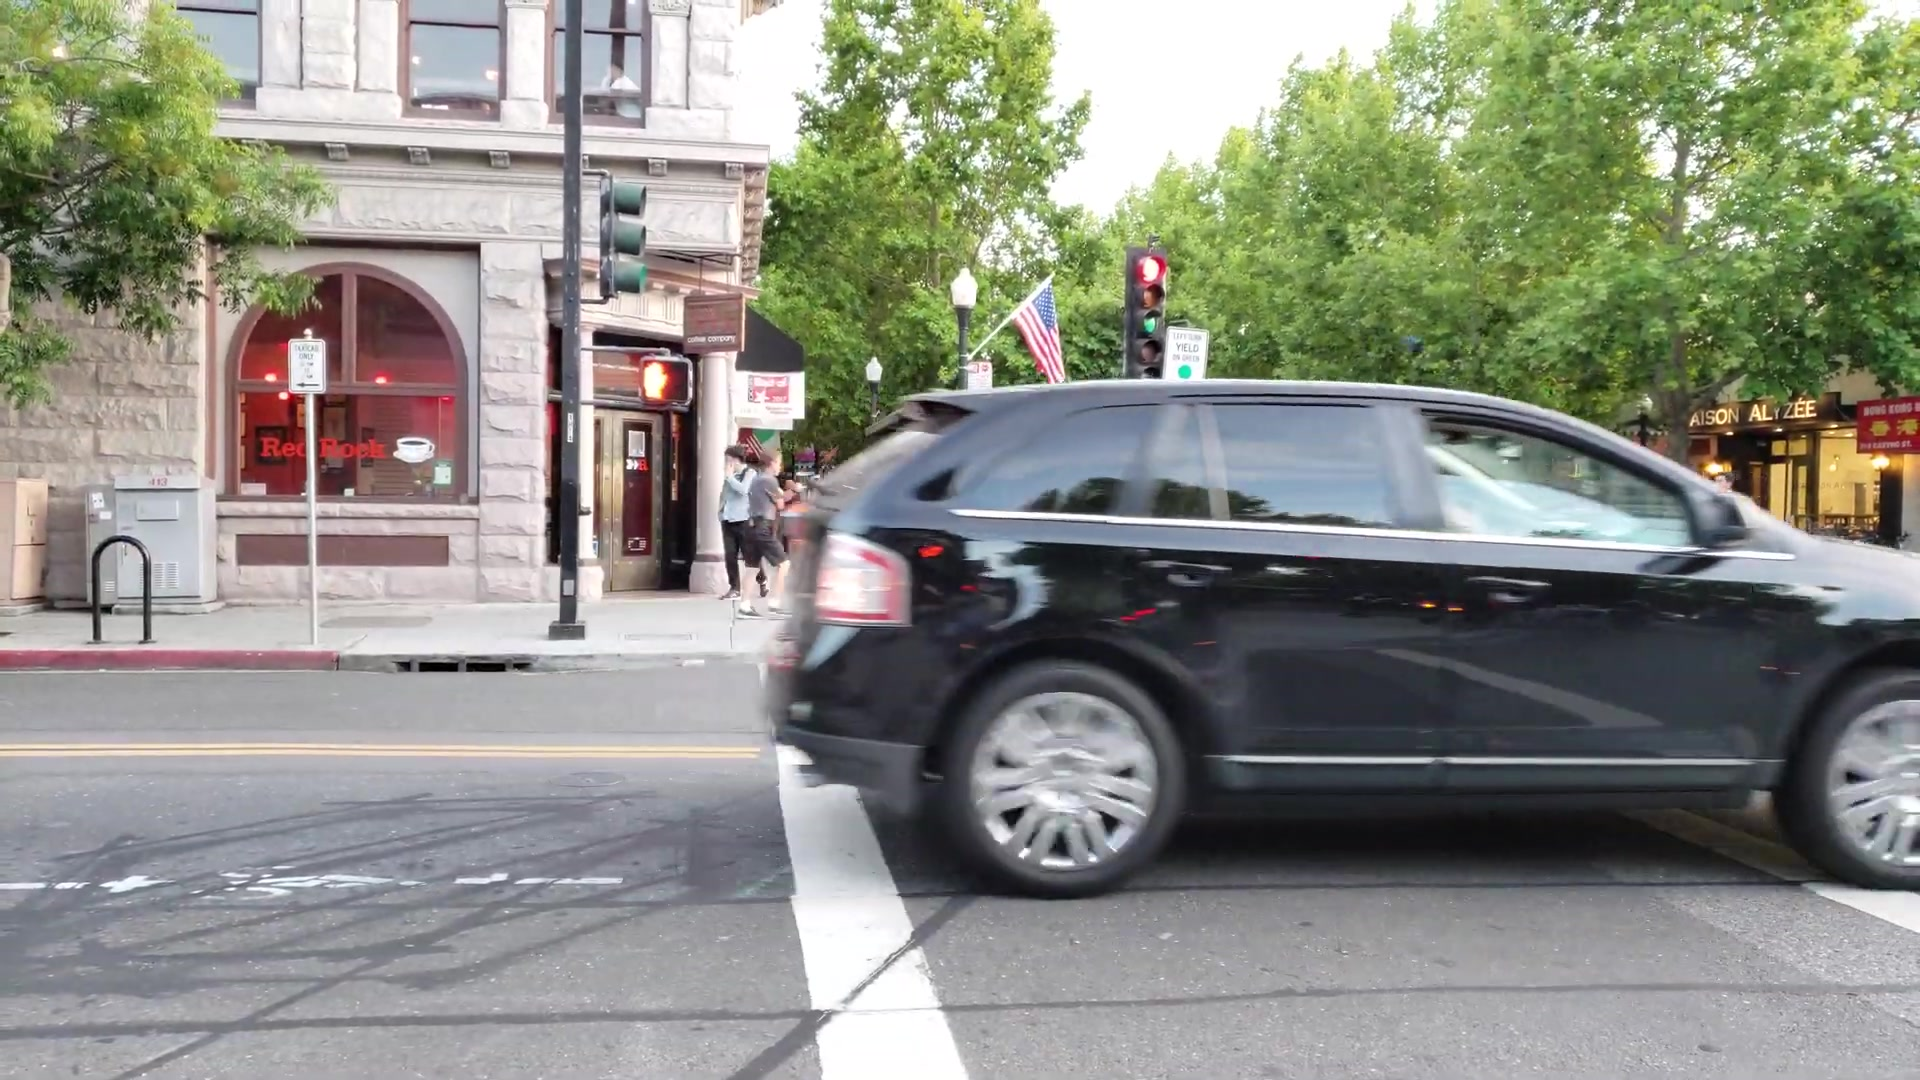vehicle: (783, 384, 1920, 891)
